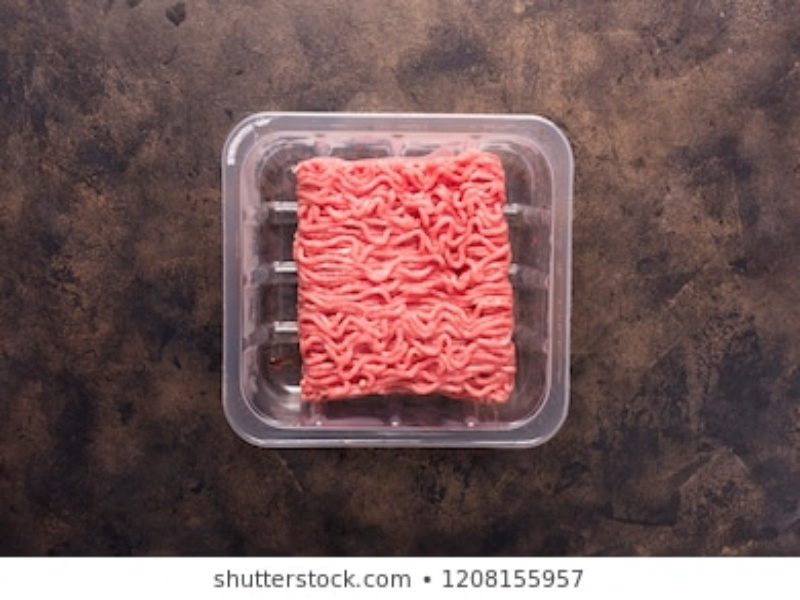plastic-container: (219, 112, 573, 447)
